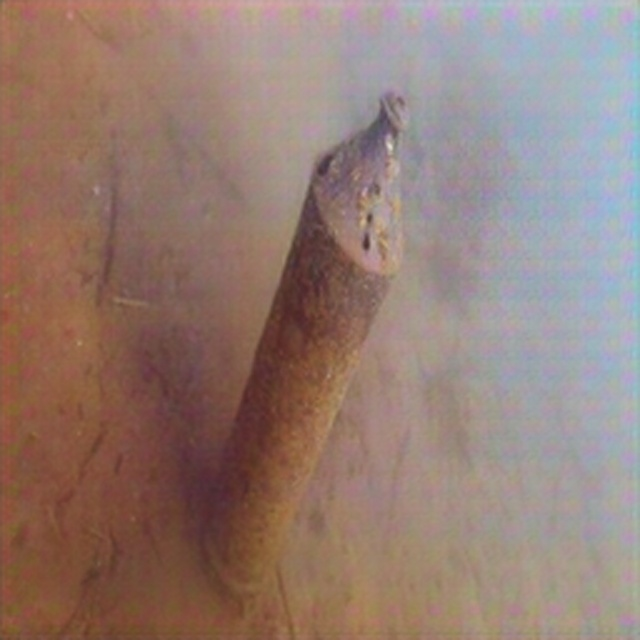mine: (198, 87, 409, 595)
